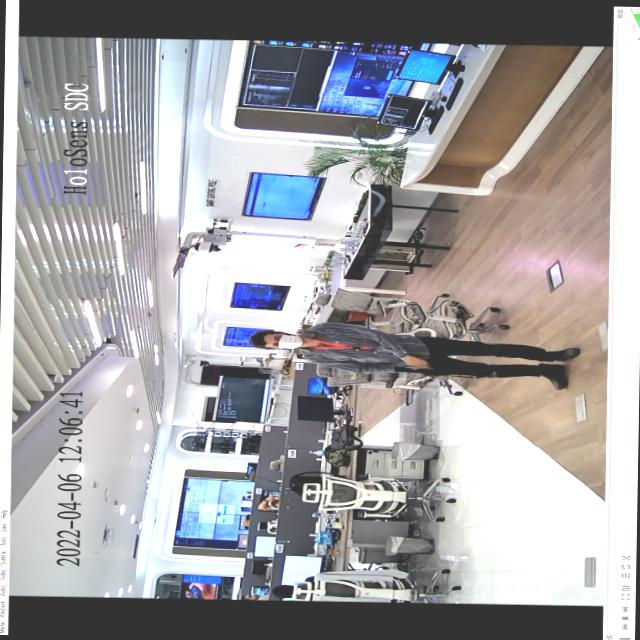long weapon: (385, 359, 523, 383)
